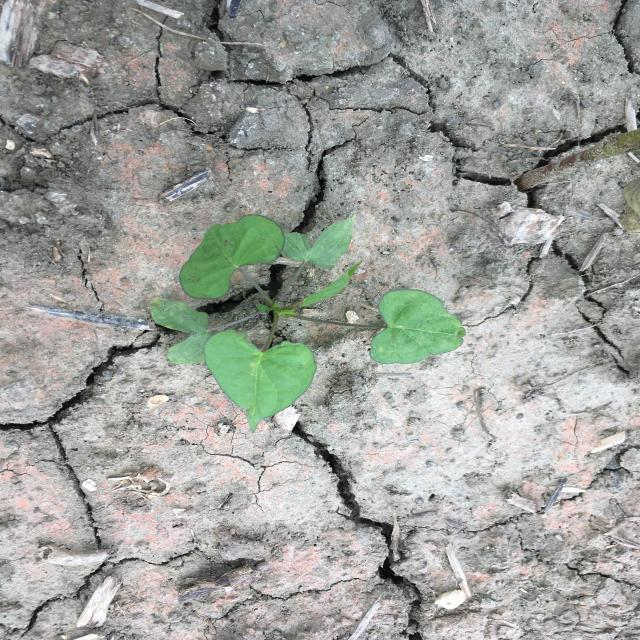MorningGlory: (149, 214, 467, 433)
